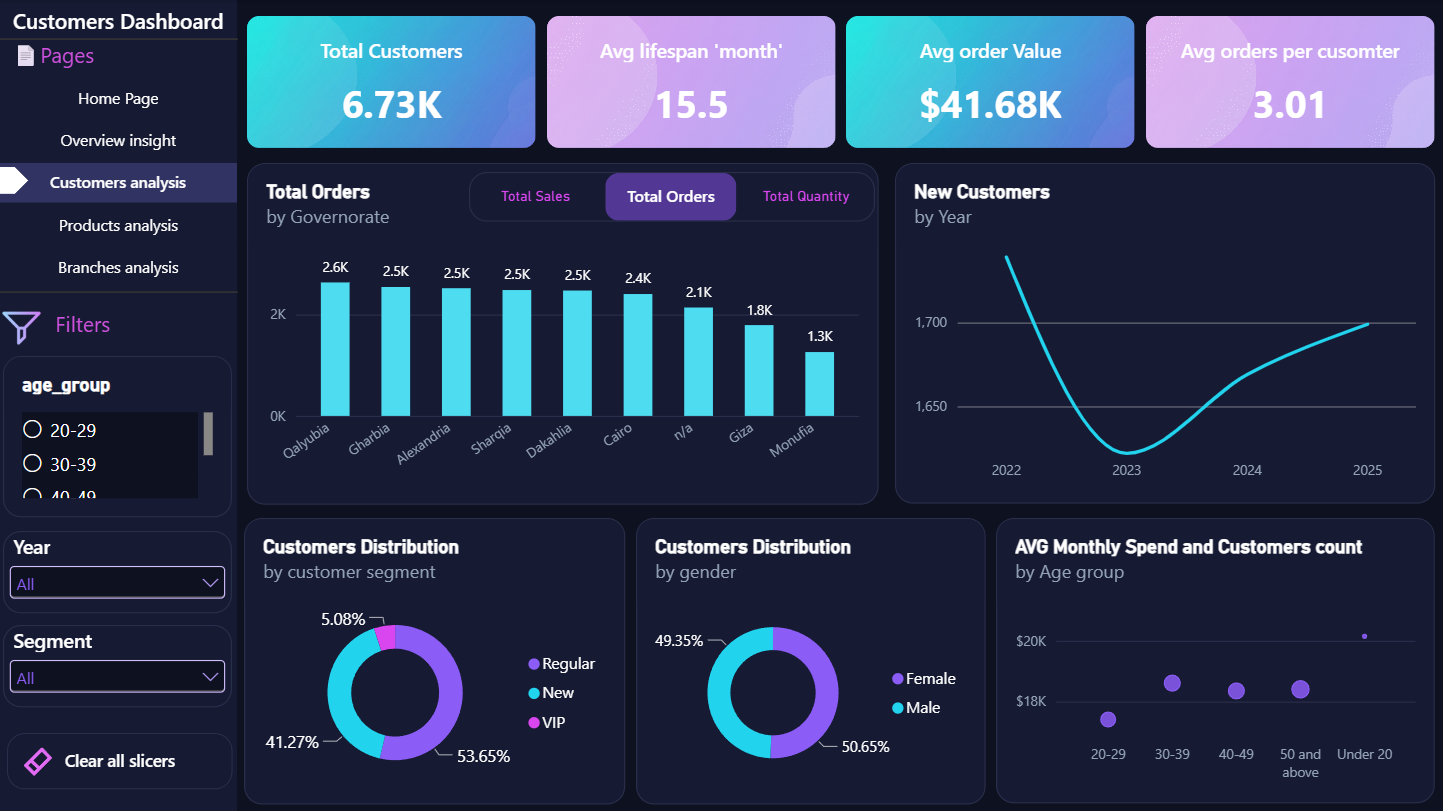

What the dashboard file says about the page in this screenshot:
{"tool":"powerbi","page":{"name":"Customers analysis","canvas":[1280,720],"ordinal":2},"visuals":[{"type":"shape","box":[0,0,211.5,720],"z":0},{"type":"cardVisual","fields":{"Data":["Avg(gold report_customers.lifespan)"]},"box":[485.6,14.2,256.9,117.3],"z":1000},{"type":"scatterChart","fields":{"Size":["Count(gold report_customers.customer_key)"],"X":["gold report_customers.age_group"],"Y":["Avg(gold report_customers.avg_monthly_spend)"]},"box":[884,459.3,389.3,252.7],"z":2000},{"type":"donutChart","fields":{"Category":["gold report_customers.customer_segment"],"Y":["CountNonNull(gold report_customers.customer_segment)"]},"box":[217.2,459.3,338,253.6],"z":3000},{"type":"donutChart","fields":{"Category":["gold report_customers.gender"],"Y":["Count(gold report_customers.customer_key)"]},"box":[565,459.1,310,253.8],"z":4000},{"type":"textbox","box":[0,5,211.5,36.9],"z":5000,"group":"g2"},{"type":"cardVisual","fields":{"Data":["CountNonNull(gold report_customers.customer_key)"]},"box":[219.9,14.2,256.9,117.3],"z":5000},{"type":"cardVisual","fields":{"Data":["Avg(gold report_customers.total_orders)"]},"box":[1017,14.2,256.9,117.3],"z":6000},{"type":"textbox","box":[6.3,35,83,31.5],"z":6000,"group":"g2"},{"type":"cardVisual","fields":{"Data":["Avg(gold report_customers.avg_order_value)"]},"box":[751.3,14.2,256.9,117.3],"z":7000},{"type":"lineChart","fields":{"Category":["gold report_customers.create_date Hierarchy.Year","gold report_customers.create_date Hierarchy.Month"],"Y":["Count(gold report_customers.customer_key)"]},"box":[794.8,144.9,478.9,302.4],"z":8000},{"type":"clusteredColumnChart","fields":{"Category":["gold report_customers.city"],"Y":["gold report_customers.Total Orders1"]},"box":[219.9,144.5,560.4,303.3],"z":9000},{"type":"advancedSlicerVisual","fields":{"Values":["Customers Measures.Customers Measures"]},"box":[416.8,152.1,360.1,44.1],"z":10000},{"type":"shape","box":[0,252.9,211.5,12.6],"z":11000},{"type":"textbox","box":[0,273.6,148.5,35.1],"z":12000},{"type":"actionButton","box":[0,144.8,211,35],"z":13000,"group":"g1"},{"type":"image","box":[0,273.6,39.6,34.2],"z":13000},{"type":"shape","box":[0,148.4,26,23.9],"z":14000,"group":"g1"},{"type":"listSlicer","fields":{"Values":["gold report_customers.age_group"]},"box":[3.6,315.9,203,143.1],"z":14000},{"type":"slicer","fields":{"Values":["gold report_customers.create_date Hierarchy.Year"]},"box":[3.6,470.8,203,72.9],"z":15000},{"type":"slicer","fields":{"Values":["gold report_customers.customer_segment"]},"box":[3.6,554,203,72.9],"z":16000},{"type":"actionButton","box":[7.2,649.9,200,50],"z":17000},{"type":"actionButton","box":[0,182.6,211.5,35],"z":18000},{"type":"actionButton","box":[0,220,211.5,35],"z":19000},{"type":"actionButton","box":[0,70,211.5,35],"z":20000},{"type":"group","id":"g1","title":"Group 1","box":[0,144.8,211,35.5],"z":21000},{"type":"actionButton","box":[0,107.4,211.5,35],"z":22000},{"type":"group","id":"g2","title":"Group 2","box":[0,5,211.5,61.5],"z":23000},{"type":"shape","box":[0,28.4,211.5,12.6],"z":24000,"group":"g2"}]}

Visuals, with their boxes on the page's 1280x720 design canvas (x1, y1, x2, y2). These are canvas units, not pixel positions in the 1443x811 screenshot, which may show the page scaled, cropped or inside an application window:
shape: l=0, t=0, r=212, b=720
cardVisual - Avg(gold report_customers.lifespan): l=486, t=14, r=742, b=132
scatterChart - Count(gold report_customers.customer_key) x gold report_customers.age_group: l=884, t=459, r=1273, b=712
donutChart - gold report_customers.customer_segment x CountNonNull(gold report_customers.customer_segment): l=217, t=459, r=555, b=713
donutChart - gold report_customers.gender x Count(gold report_customers.customer_key): l=565, t=459, r=875, b=713
textbox: l=0, t=5, r=212, b=42
cardVisual - CountNonNull(gold report_customers.customer_key): l=220, t=14, r=477, b=132
cardVisual - Avg(gold report_customers.total_orders): l=1017, t=14, r=1274, b=132
textbox: l=6, t=35, r=89, b=66
cardVisual - Avg(gold report_customers.avg_order_value): l=751, t=14, r=1008, b=132
lineChart - gold report_customers.create_date Hierarchy.Year x gold report_customers.create_date Hierarchy.Month: l=795, t=145, r=1274, b=447
clusteredColumnChart - gold report_customers.city x gold report_customers.Total Orders1: l=220, t=144, r=780, b=448
advancedSlicerVisual - Customers Measures.Customers Measures: l=417, t=152, r=777, b=196
shape: l=0, t=253, r=212, b=266
textbox: l=0, t=274, r=148, b=309
actionButton: l=0, t=145, r=211, b=180
image: l=0, t=274, r=40, b=308
shape: l=0, t=148, r=26, b=172
listSlicer - gold report_customers.age_group: l=4, t=316, r=207, b=459
slicer - gold report_customers.create_date Hierarchy.Year: l=4, t=471, r=207, b=544
slicer - gold report_customers.customer_segment: l=4, t=554, r=207, b=627
actionButton: l=7, t=650, r=207, b=700
actionButton: l=0, t=183, r=212, b=218
actionButton: l=0, t=220, r=212, b=255
actionButton: l=0, t=70, r=212, b=105
"Group 1" group: l=0, t=145, r=211, b=180
actionButton: l=0, t=107, r=212, b=142
"Group 2" group: l=0, t=5, r=212, b=66
shape: l=0, t=28, r=212, b=41
